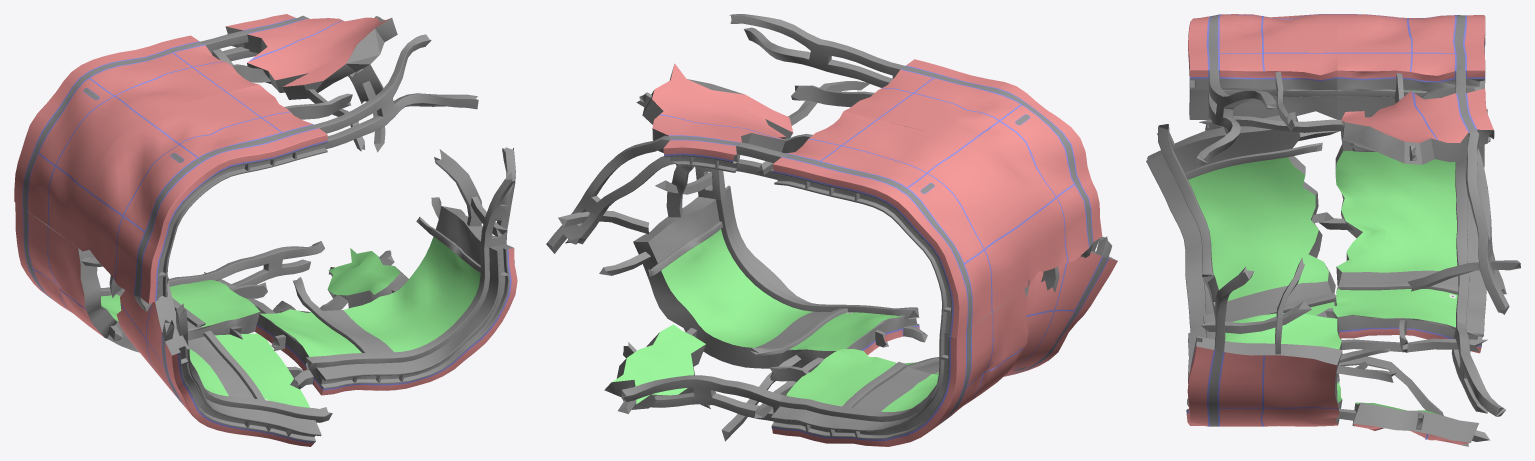
File: SM_DamagedShip06.gltf
3 renders of one model, left to right at view 1: azimuth 30°, elevation 25°; view 2: azimuth 150°, elevation 25°; view 3: azimuth 270°, elevation 25°, orthographic. The views are drawn at different scales.
Visible parts, largest first — view 1: SM_DamagedShip06; view 2: SM_DamagedShip06; view 3: SM_DamagedShip06.
Part boxes in pixels (x1,y1,x2,y2): SM_DamagedShip06: (14, 14, 517, 446); SM_DamagedShip06: (546, 14, 1117, 446); SM_DamagedShip06: (1146, 14, 1520, 446).
Bounding box in the file's own units: 16.62 × 14.42 × 12.69.
